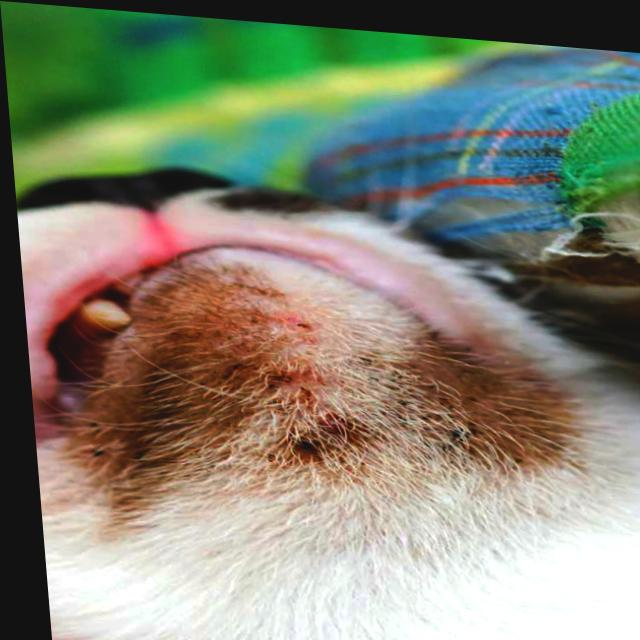acne: (81, 296, 331, 506), (371, 357, 534, 469), (281, 410, 372, 475)
